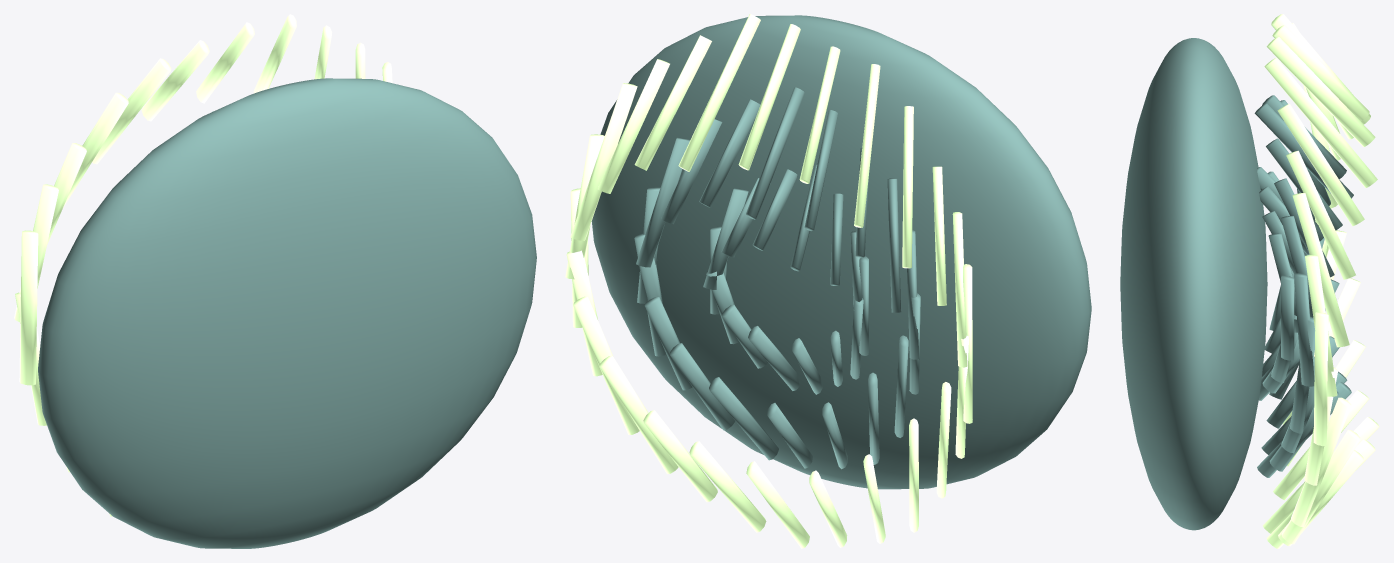
Rendered from coral-anemone-01.glb.
3 views of the same model, side by side, from view 1: azimuth 30°, elevation 25°; view 2: azimuth 150°, elevation 25°; view 3: azimuth 270°, elevation 25° (orthographic). The views are drawn at different scales.
Visible parts, largest first — view 1: coral_anemone_01_body, coral_anemone_01_tendril_2_11, coral_anemone_01_tendril_2_07, coral_anemone_01_tendril_2_06, coral_anemone_01_tendril_2_08, coral_anemone_01_tendril_2_05, coral_anemone_01_tendril_2_10, coral_anemone_01_tendril_2_09, coral_anemone_01_tendril_2_04, coral_anemone_01_tendril_2_12; view 2: coral_anemone_01_body, coral_anemone_01_tendril_2_01, coral_anemone_01_tendril_2_04, coral_anemone_01_tendril_2_02, coral_anemone_01_tendril_2_03, coral_anemone_01_tendril_1_01, coral_anemone_01_tendril_2_20, coral_anemone_01_tendril_2_05, coral_anemone_01_tendril_2_19, coral_anemone_01_tendril_2_18, coral_anemone_01_tendril_1_04, coral_anemone_01_tendril_2_21 (+40 smaller); view 3: coral_anemone_01_body, coral_anemone_01_tendril_2_04, coral_anemone_01_tendril_2_05, coral_anemone_01_tendril_2_03, coral_anemone_01_tendril_2_01, coral_anemone_01_tendril_2_02, coral_anemone_01_tendril_2_23, coral_anemone_01_tendril_2_21, coral_anemone_01_tendril_2_06, coral_anemone_01_tendril_2_20, coral_anemone_01_tendril_1_00, coral_anemone_01_tendril_2_00 (+28 smaller).
Boxes of the visible parts, x1,y1,x2,y2 form: coral_anemone_01_body: (38,78,536,548); coral_anemone_01_tendril_2_11: (19,230,38,385); coral_anemone_01_tendril_2_07: (92,58,171,164); coral_anemone_01_tendril_2_06: (141,40,209,121); coral_anemone_01_tendril_2_08: (63,92,128,207); coral_anemone_01_tendril_2_05: (196,22,254,103); coral_anemone_01_tendril_2_10: (14,184,58,322); coral_anemone_01_tendril_2_09: (47,143,86,243); coral_anemone_01_tendril_2_04: (253,14,296,93); coral_anemone_01_tendril_2_12: (15,292,46,425); coral_anemone_01_body: (591,15,1091,489); coral_anemone_01_tendril_2_01: (570,83,637,240); coral_anemone_01_tendril_2_04: (678,14,760,171); coral_anemone_01_tendril_2_02: (597,59,669,193); coral_anemone_01_tendril_2_03: (634,35,711,170); coral_anemone_01_tendril_1_01: (636,137,689,267); coral_anemone_01_tendril_2_20: (599,355,678,473); coral_anemone_01_tendril_2_05: (738,24,800,170); coral_anemone_01_tendril_2_19: (643,410,717,502); coral_anemone_01_tendril_2_18: (689,441,766,532); coral_anemone_01_tendril_1_04: (746,87,804,219); coral_anemone_01_tendril_2_21: (573,296,639,434); coral_anemone_01_body: (1120,38,1267,530); coral_anemone_01_tendril_2_04: (1264,58,1377,187); coral_anemone_01_tendril_2_05: (1266,37,1375,146); coral_anemone_01_tendril_2_03: (1277,104,1364,226); coral_anemone_01_tendril_2_01: (1292,193,1349,347); coral_anemone_01_tendril_2_02: (1286,150,1355,279); coral_anemone_01_tendril_2_23: (1313,312,1328,446); coral_anemone_01_tendril_2_21: (1291,397,1351,526); coral_anemone_01_tendril_2_06: (1272,25,1369,121); coral_anemone_01_tendril_2_20: (1281,429,1360,544); coral_anemone_01_tendril_1_00: (1294,273,1314,386); coral_anemone_01_tendril_2_00: (1305,255,1337,396).
Size of the model in its own units: 1.64 by 1.66 by 0.775.
